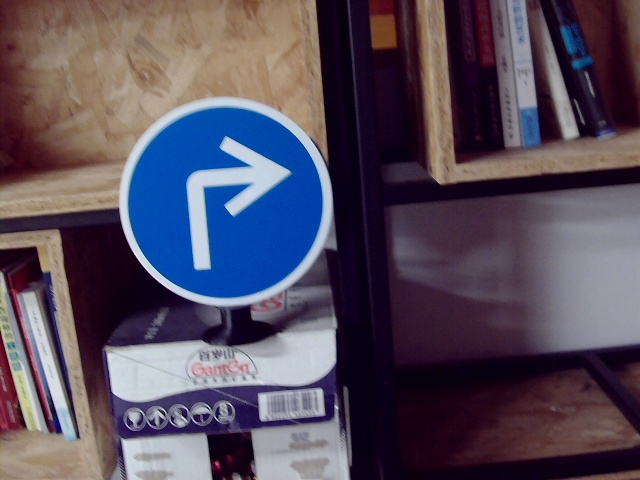turn_right: (173, 142, 289, 267)
